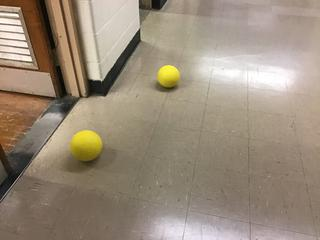power_cell: (63, 129, 102, 160), (155, 64, 183, 89)
